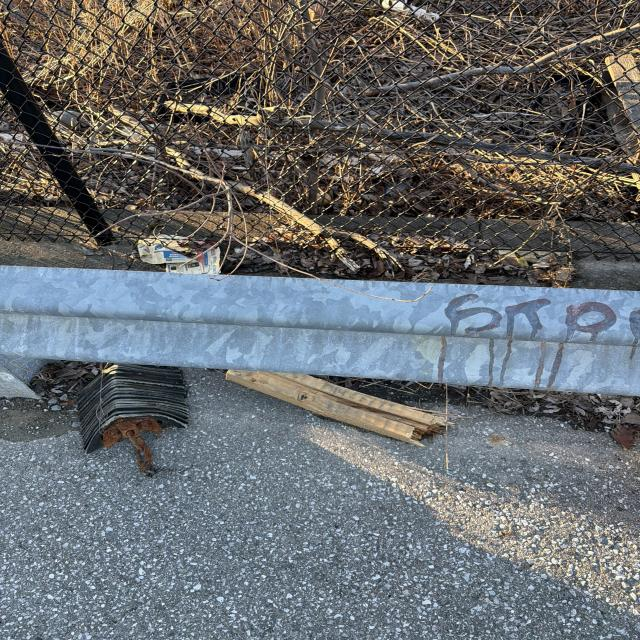Guard rail: (6, 268, 620, 382)
